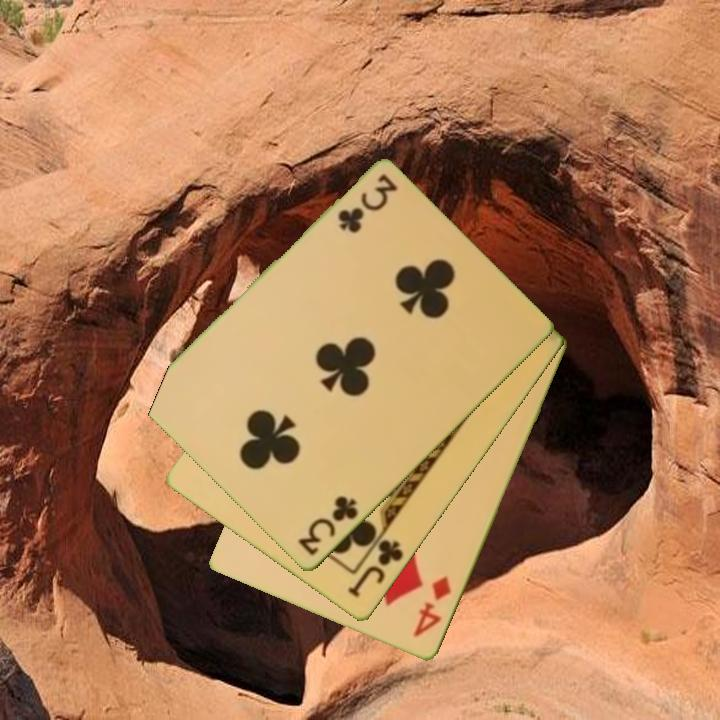3c: (294, 493, 362, 559), (334, 170, 400, 236)
4d: (410, 573, 455, 641)
Jc: (344, 536, 407, 601)
